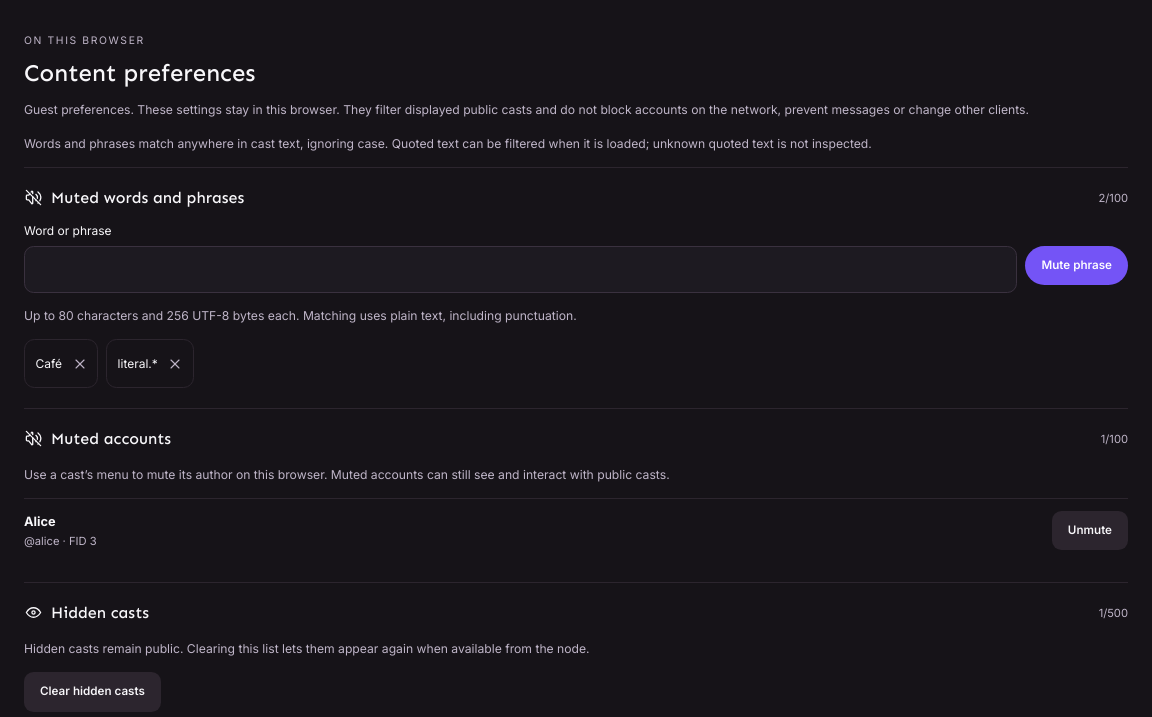
Test case: local content settings › removes phrases and accounts and clears only hidden casts
Click the button named "Remove muted phrase Café" at (80, 364), box [66,344,93,383]
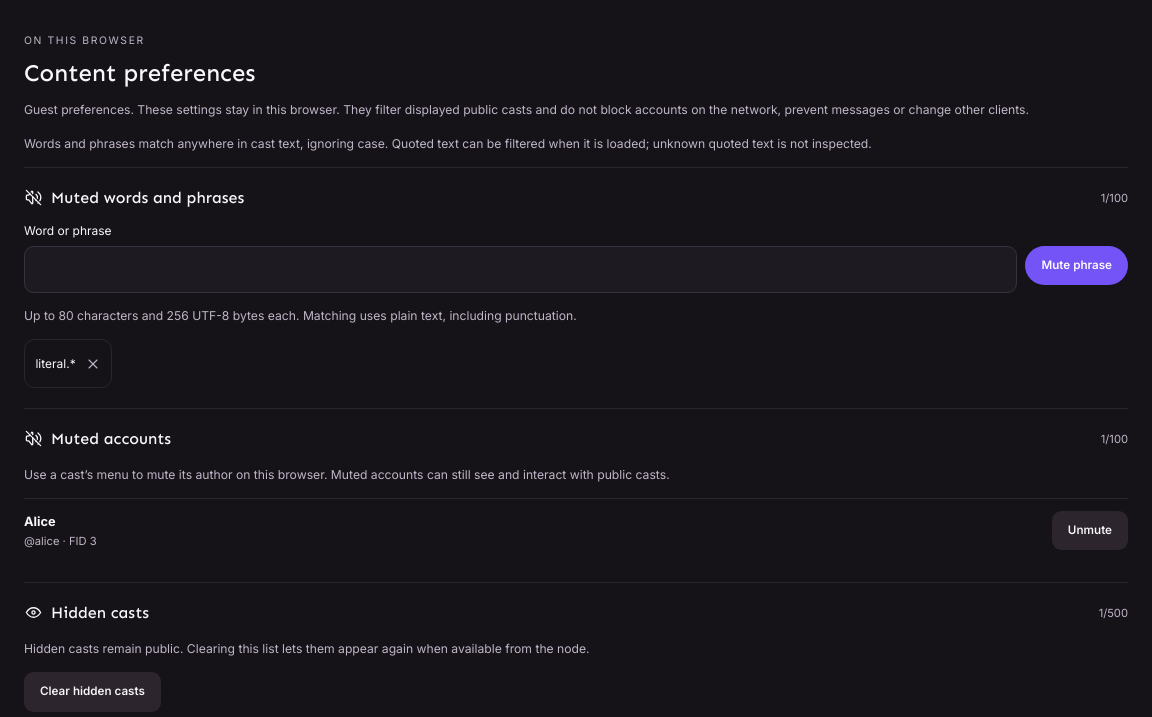
Check: the list with class "content-settings__words" reads "literal.*", box [35,356,76,371]
Check: the text with class "content-settings__words" no longer shows "Café"
Click the button "Unmute" at (1090, 531), box [1052,511,1128,550]
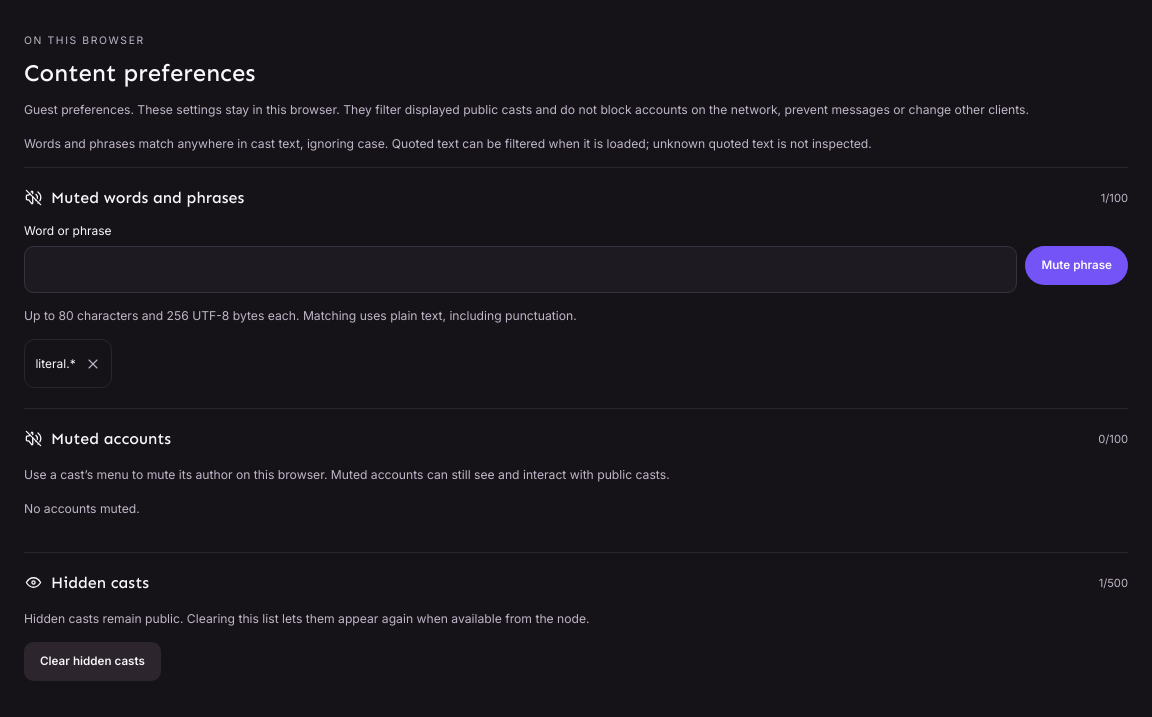
Check: the text "No accounts muted." is shown, box [24,501,140,516]
Click the button "Clear hidden casts" at (92, 662), box [24,642,161,682]
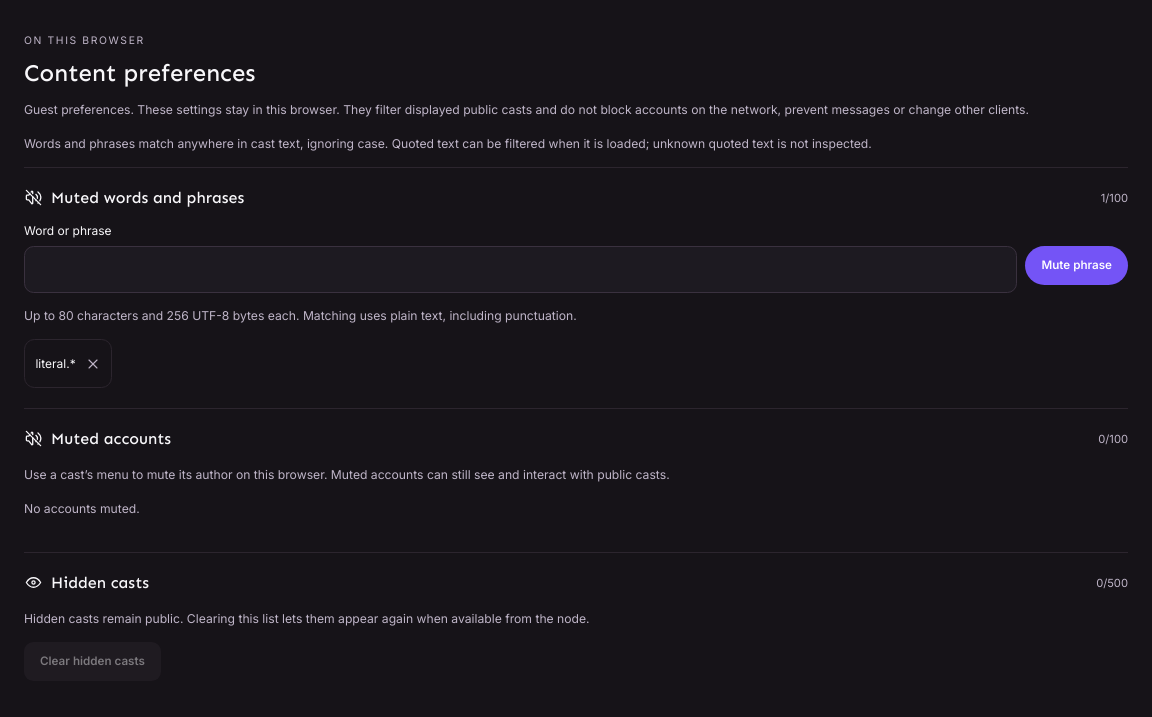
Check: the list with class "content-settings__words" reads "literal.*", box [35,356,76,371]
Check: the button "Clear hidden casts" is disabled, box [24,642,161,682]
